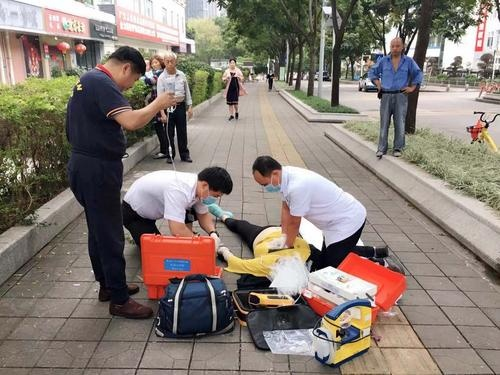falling: (202, 202, 332, 297)
